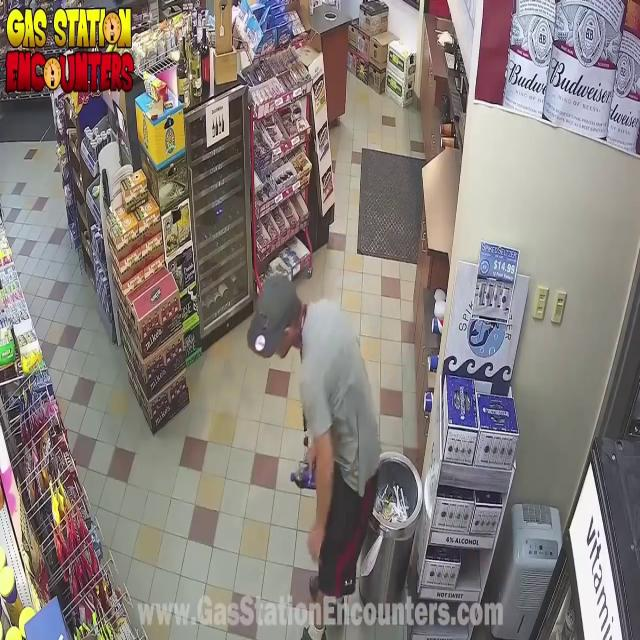Product: (288, 444, 322, 502)
shoplifting: (247, 195, 425, 640)
